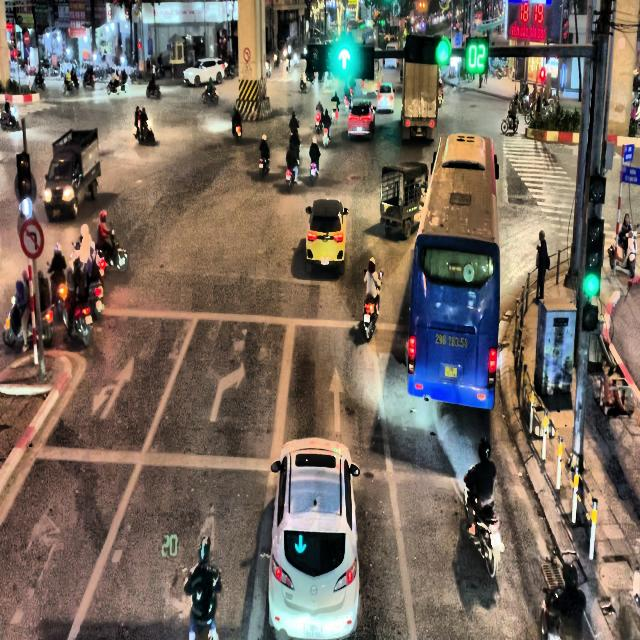BUS: (407, 132, 500, 410)
CAR: (268, 437, 360, 639), (305, 197, 348, 273), (183, 57, 225, 86), (348, 98, 376, 140), (376, 81, 395, 112)
MOTORBIKE: (3, 268, 54, 349), (463, 480, 504, 579), (62, 241, 93, 347), (97, 224, 128, 272), (362, 270, 383, 340), (133, 118, 155, 145), (0, 100, 18, 129), (501, 111, 519, 134), (286, 162, 298, 192), (106, 78, 128, 94), (258, 152, 270, 179), (202, 86, 218, 104), (62, 74, 74, 94), (310, 160, 319, 185), (322, 124, 331, 148), (146, 83, 160, 98), (83, 72, 95, 88), (233, 122, 242, 143), (315, 112, 323, 133), (300, 74, 307, 92)
TRUCK: (44, 128, 102, 222)
